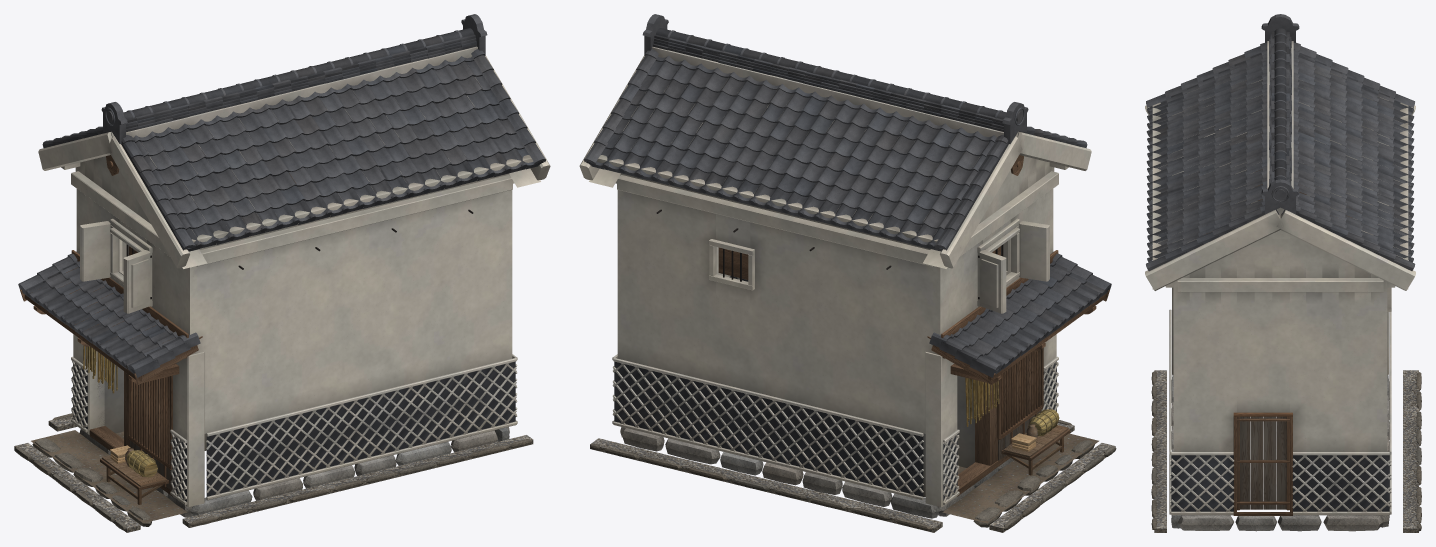
File: kura28.glb
3 renders of one model, left to right at view 1: azimuth 30°, elevation 25°; view 2: azimuth 150°, elevation 25°; view 3: azimuth 270°, elevation 25°, orthographic. The views are drawn at different scales.
Parts seen in each view (by area): view 1: kura28_plaster_white#kura, kura28_tile_ibushi, kura28_plaster_white, kura28_tile_ibushi#namako, kura28_wood_dark, kura28_stone_granite#curb, kura28_stone_granite, kura28_gravel, kura28_earth_floor#tataki, kura28_plaster_white#0.5, kura28_tile_manju, kura28_wood_aged (+2 smaller); view 2: kura28_plaster_white#kura, kura28_tile_ibushi, kura28_plaster_white, kura28_tile_ibushi#namako, kura28_wood_dark, kura28_stone_granite, kura28_gravel, kura28_stone_granite#curb, kura28_earth_floor#tataki, kura28_plaster_white#0.5, kura28_straw#rope, kura28_tile_manju (+1 smaller); view 3: kura28_plaster_white#kura, kura28_tile_ibushi, kura28_plaster_white, kura28_tile_ibushi#namako, kura28_gravel, kura28_wood_weathered, kura28_stone_granite, kura28_wood_dark, kura28_stone_granite#curb, kura28_tile_manju.
Part boxes in pixels (box(x1,y1,x2,y2)): kura28_plaster_white#kura: box(38, 55, 550, 506); kura28_tile_ibushi: box(18, 14, 545, 377); kura28_plaster_white: box(71, 46, 517, 505); kura28_tile_ibushi#namako: box(73, 358, 515, 501); kura28_wood_dark: box(20, 155, 295, 496); kura28_stone_granite#curb: box(15, 413, 532, 530); kura28_stone_granite: box(79, 427, 509, 517); kura28_gravel: box(14, 416, 533, 532); kura28_earth_floor#tataki: box(31, 430, 187, 523); kura28_plaster_white#0.5: box(97, 356, 206, 450); kura28_tile_manju: box(25, 160, 543, 373); kura28_wood_aged: box(102, 455, 166, 504); kura28_plaster_white#kura: box(579, 55, 1091, 506); kura28_tile_ibushi: box(584, 14, 1111, 377); kura28_plaster_white: box(612, 47, 1058, 504); kura28_tile_ibushi#namako: box(614, 276, 1056, 500); kura28_wood_dark: box(718, 155, 1109, 496); kura28_stone_granite: box(620, 427, 1017, 518); kura28_gravel: box(590, 423, 1115, 532); kura28_stone_granite#curb: box(590, 420, 1116, 530); kura28_earth_floor#tataki: box(942, 433, 1098, 523); kura28_plaster_white#0.5: box(923, 375, 974, 497); kura28_straw#rope: box(965, 377, 999, 426); kura28_tile_manju: box(586, 160, 1109, 369); kura28_plaster_white#kura: box(1145, 73, 1415, 451); kura28_tile_ibushi: box(1146, 14, 1415, 271); kura28_plaster_white: box(1169, 41, 1391, 515); kura28_tile_ibushi#namako: box(1171, 455, 1389, 511); kura28_gravel: box(1154, 370, 1418, 532); kura28_wood_weathered: box(1240, 416, 1286, 509); kura28_stone_granite: box(1171, 375, 1389, 531); kura28_wood_dark: box(1206, 169, 1351, 515); kura28_stone_granite#curb: box(1151, 371, 1421, 531); kura28_tile_manju: box(1146, 108, 1414, 262).
Size of the model in its own units: 7.17 by 6.34 by 4.44.
14 materials, 13 textured.
